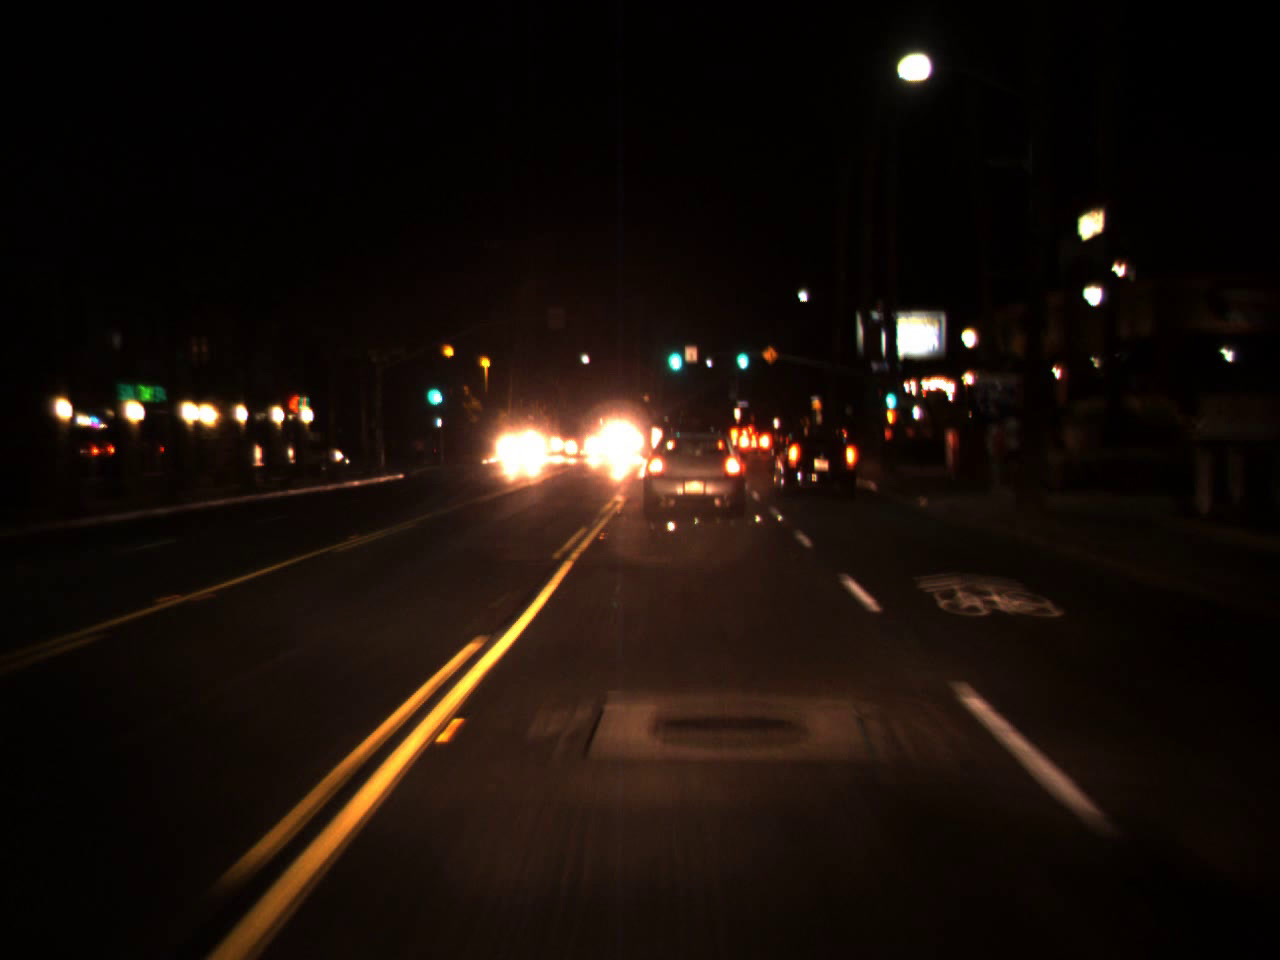go: (663, 330, 684, 378), (876, 374, 901, 413), (422, 369, 443, 411), (733, 339, 751, 369)
